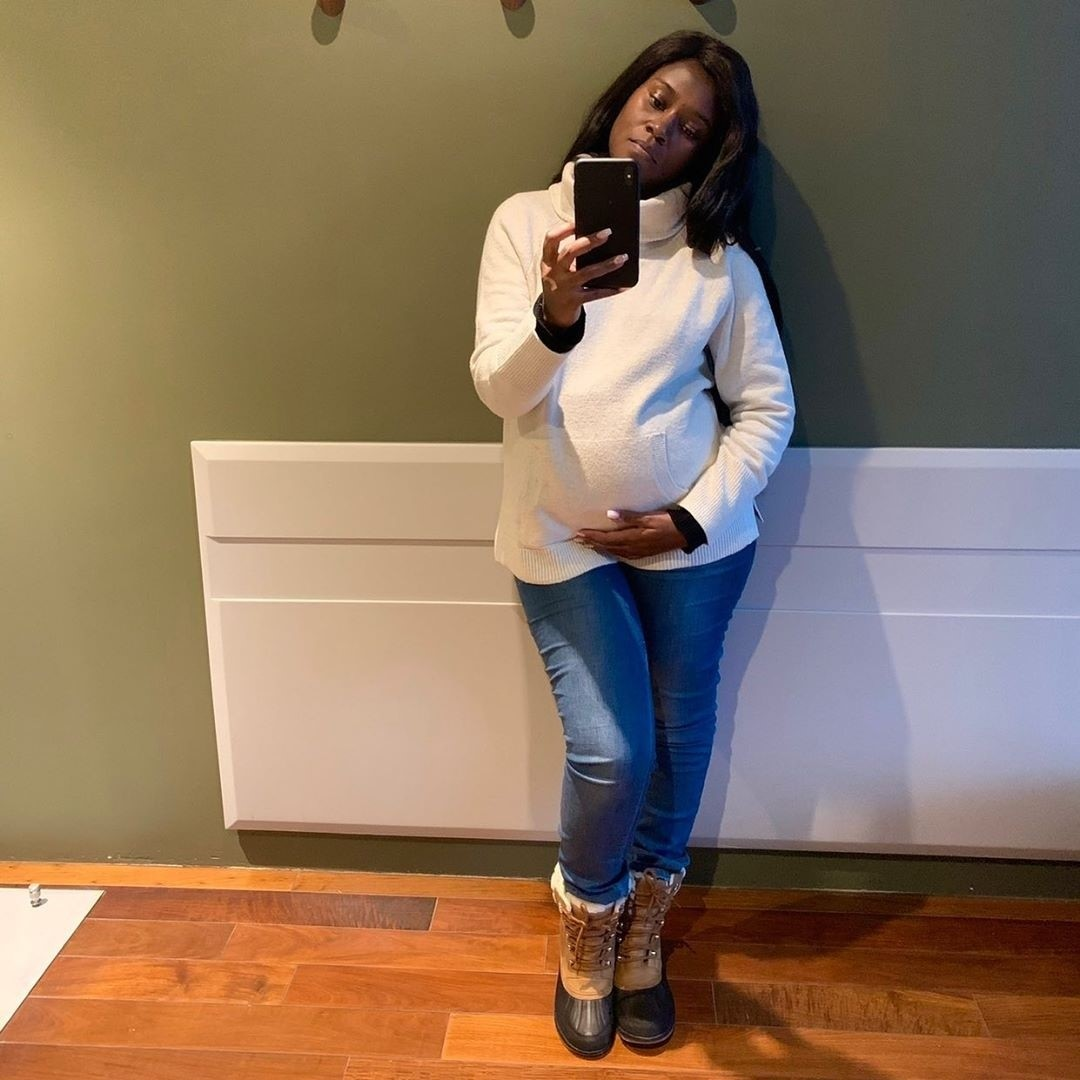face_no_mask: (609, 33, 738, 195)
